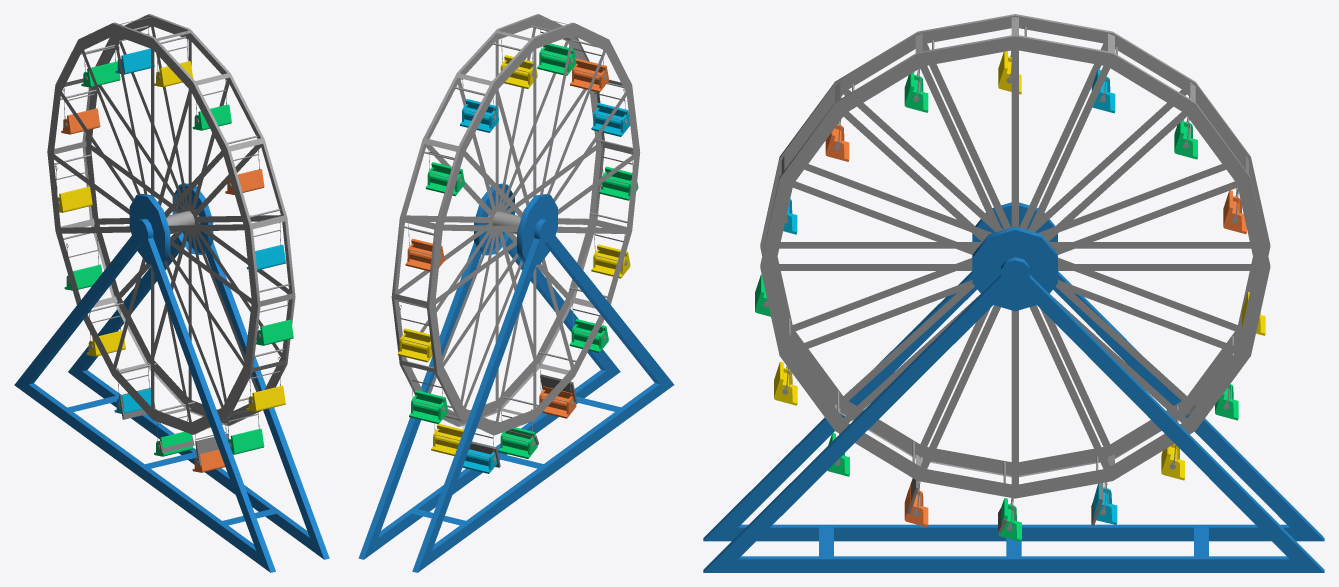
File: FERRIS WHEEL.fbx
3 views of the same model, side by side, from view 1: azimuth 30°, elevation 25°; view 2: azimuth 150°, elevation 25°; view 3: azimuth 270°, elevation 25° (orthographic). The views are drawn at different scales.
Parts seen in each view (by area): view 1: Rim, base_base_0, chair_5, chair_6, chair_14, chair_4, chair_12, chair_13, chair_11, chair_7, chair_8, chair_15 (+6 smaller); view 2: Rim, base_base_0, chair_15, chair_9, chair_8, chair_14, chair_2, chair_7, chair_5, chair_4, chair_6, chair_13 (+6 smaller); view 3: Rim, base_base_0.
Boxes of the visible parts, x1,y1,x2,y2 form: Rim: [47, 14, 295, 434]; base_base_0: [14, 183, 329, 572]; chair_5: [246, 385, 285, 411]; chair_6: [256, 319, 293, 345]; chair_14: [57, 186, 92, 212]; chair_4: [228, 428, 264, 454]; chair_12: [81, 61, 120, 87]; chair_13: [61, 108, 100, 134]; chair_11: [115, 48, 154, 74]; chair_7: [246, 244, 285, 270]; chair_8: [225, 169, 264, 194]; chair_15: [64, 264, 102, 290]; Rim: [391, 14, 640, 435]; base_base_0: [358, 183, 674, 572]; chair_15: [409, 390, 447, 424]; chair_9: [537, 43, 576, 75]; chair_8: [570, 58, 608, 92]; chair_14: [398, 328, 432, 362]; chair_2: [498, 427, 537, 458]; chair_7: [591, 103, 630, 136]; chair_5: [591, 244, 630, 278]; chair_4: [569, 319, 608, 352]; chair_6: [599, 166, 638, 200]; chair_13: [405, 238, 444, 271]; Rim: [760, 14, 1270, 498]; base_base_0: [703, 202, 1324, 572].
Bounding box in the file's own units: 385 × 2730 × 2899.
